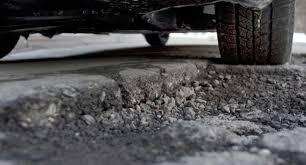Pothole: (0, 52, 306, 165)
